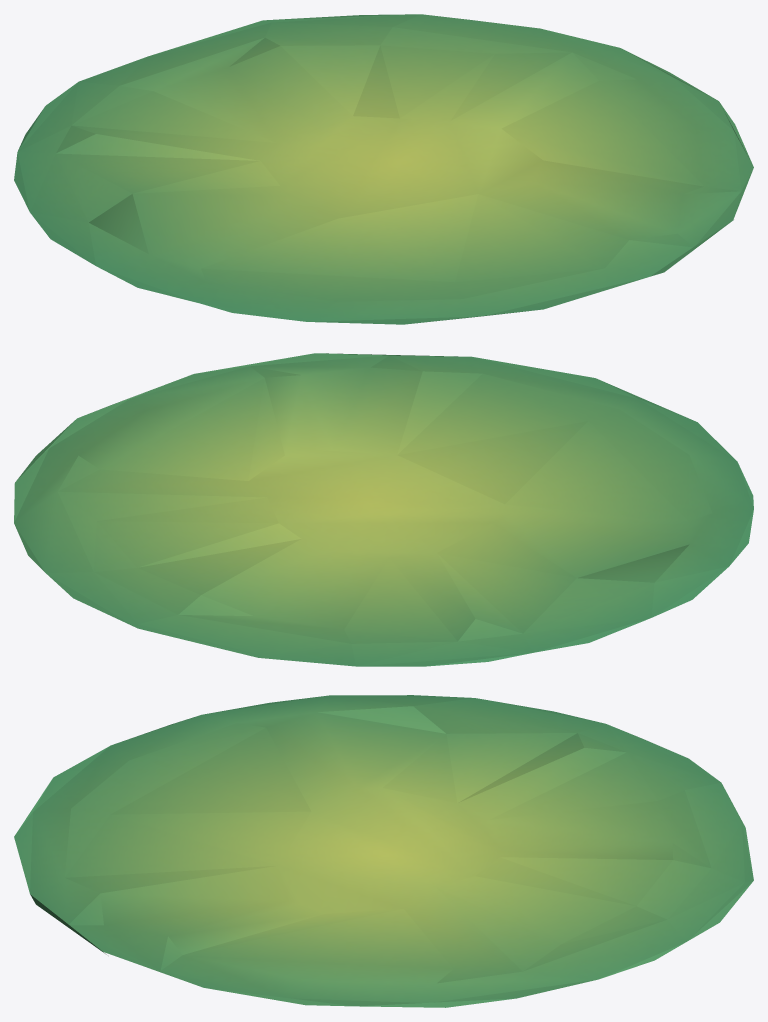
File: island.glb
3 renders of one model, top to bottom at view 1: azimuth 30°, elevation 25°; view 2: azimuth 150°, elevation 25°; view 3: azimuth 270°, elevation 25°, orthographic.
Visible parts, largest first — view 1: Cylinder.001; view 2: Cylinder.001; view 3: Cylinder.001.
Boxes of the visible parts, box(x1,y1,x2,y2) form: Cylinder.001: box(14, 14, 753, 324); Cylinder.001: box(14, 353, 753, 666); Cylinder.001: box(14, 695, 753, 1007).
Size of the model in its own units: 7.02 by 0.1498 by 6.98.
Materials: 1 (1 with a texture image).
